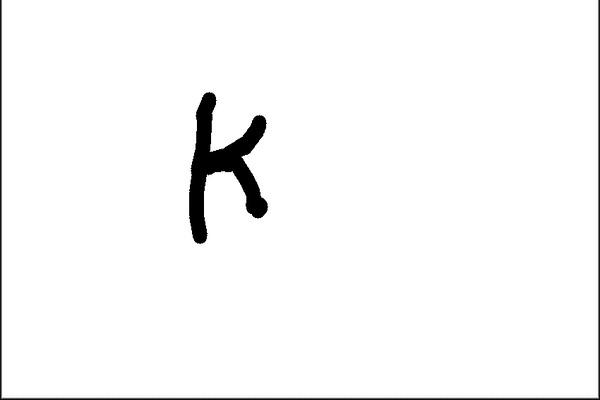K: (178, 89, 280, 247)
